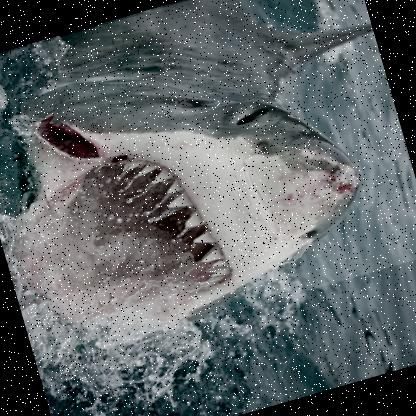white-shark: (0, 0, 415, 367)
